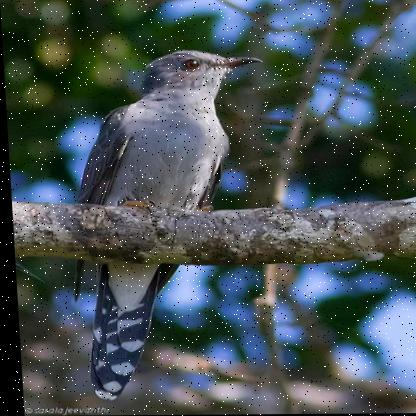Burung: (58, 49, 278, 400)
